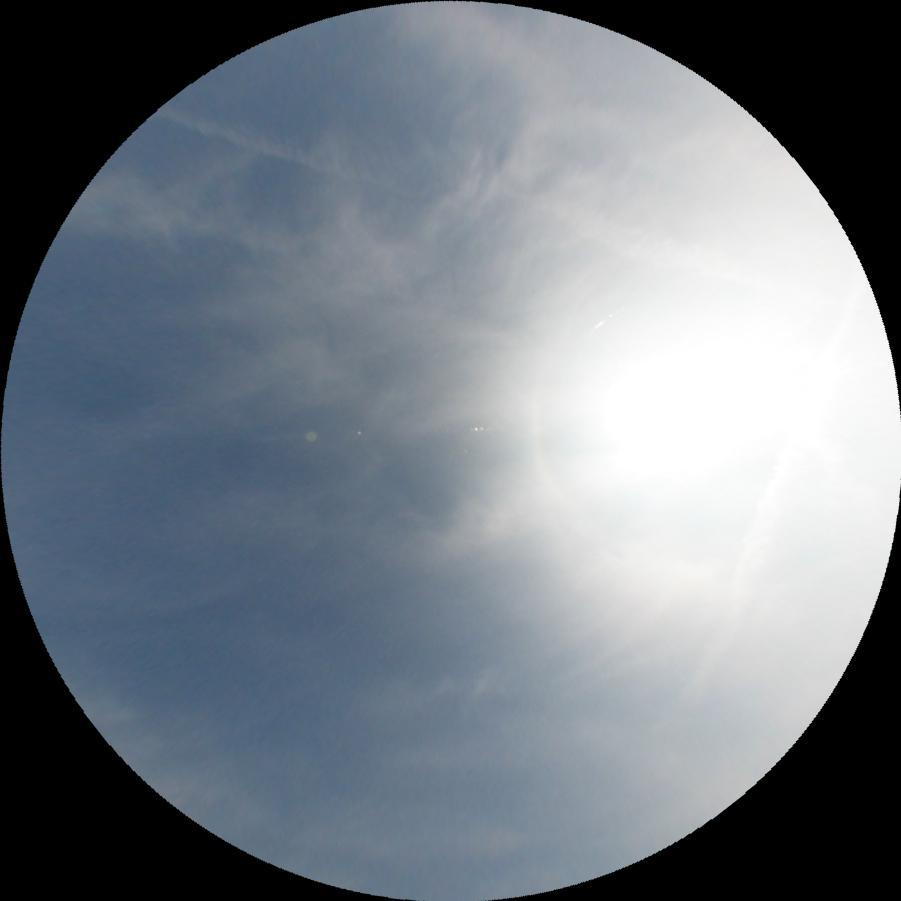contrail veryold: (151, 77, 776, 309), (628, 481, 814, 777)
sun: (570, 266, 839, 507)
